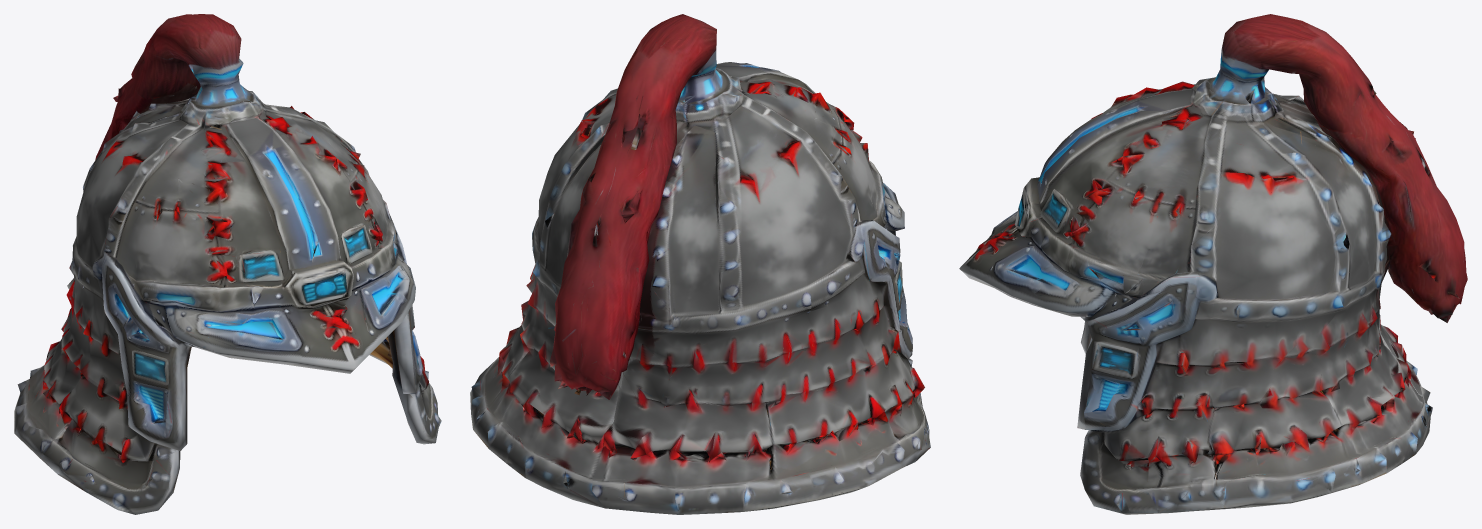
The model's file is guofengtoukui10.fbx.
3 views of the same model, side by side, from view 1: azimuth 30°, elevation 25°; view 2: azimuth 150°, elevation 25°; view 3: azimuth 270°, elevation 25° (orthographic). The views are drawn at different scales.
Parts seen in each view (by area): view 1: Mesh_0; view 2: Mesh_0; view 3: Mesh_0.
Boxes of the visible parts, <box> form: Mesh_0: <box>14,14,441,514</box>; Mesh_0: <box>470,14,930,514</box>; Mesh_0: <box>959,14,1467,514</box>.
Size of the model in its own units: 0.8358 by 0.8645 by 0.9509.
